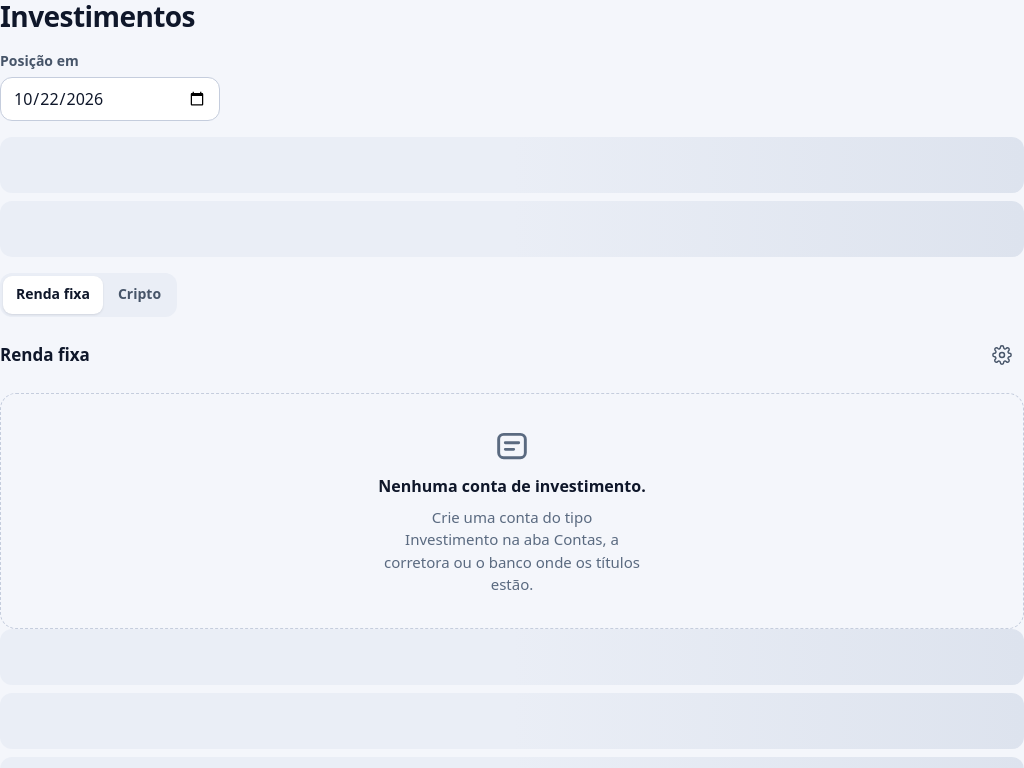
Test: cofrinhos na renda fixa › mostra a mensagem quando a rede falha e não muda o interruptor
Click the button named "Escolher cofrinhos da renda fixa". click: [1002, 355]
box: [980, 333, 1023, 377]
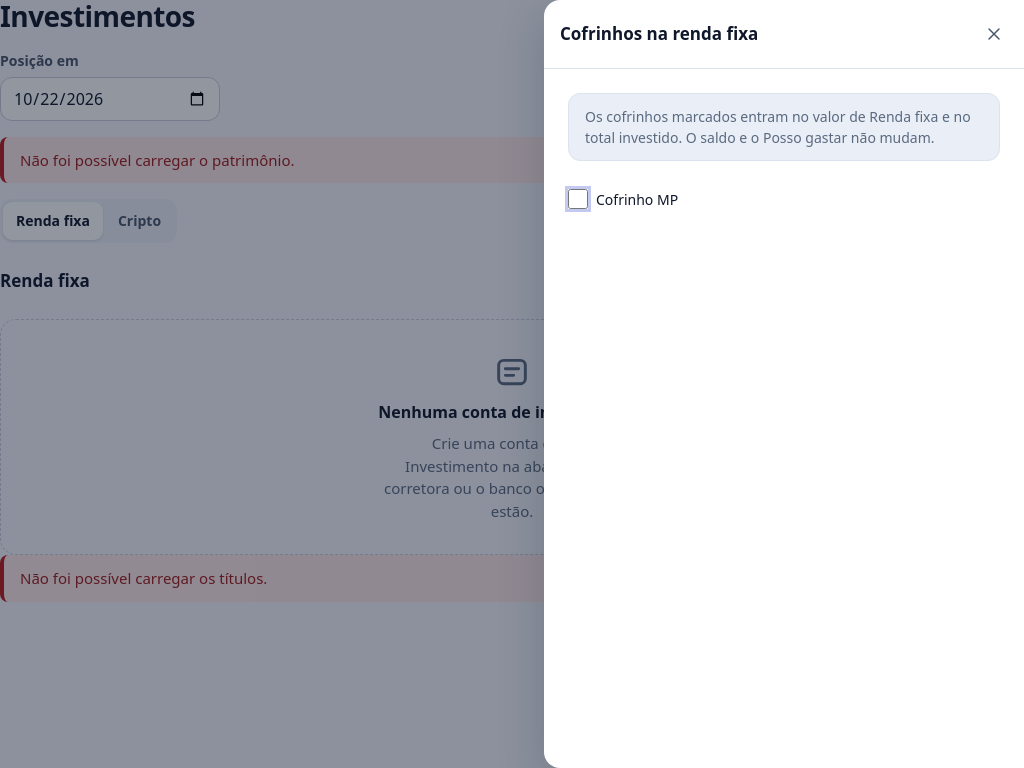
Click the checkbox labelled "Cofrinho MP". click: [578, 199]
box: [568, 189, 588, 209]
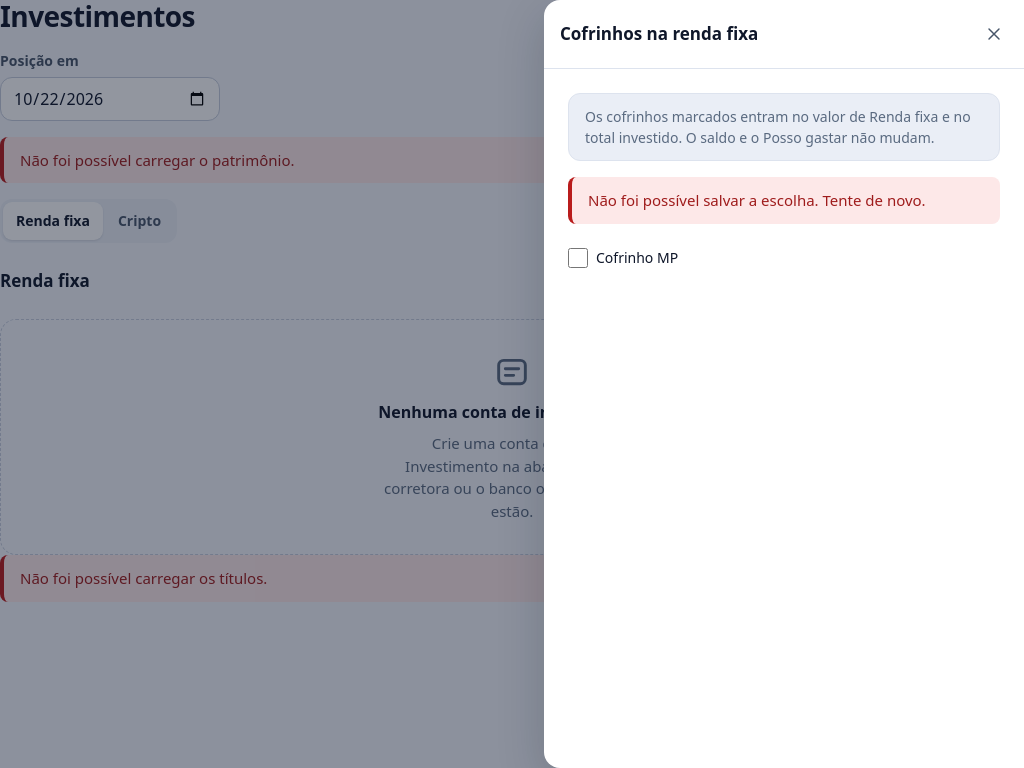
Now the checkbox labelled "Cofrinho MP" is not checked, box [568, 248, 588, 268]
Now the message "Não foi possível salvar a escolha. Tente de novo." is shown, box [568, 177, 1000, 224]
